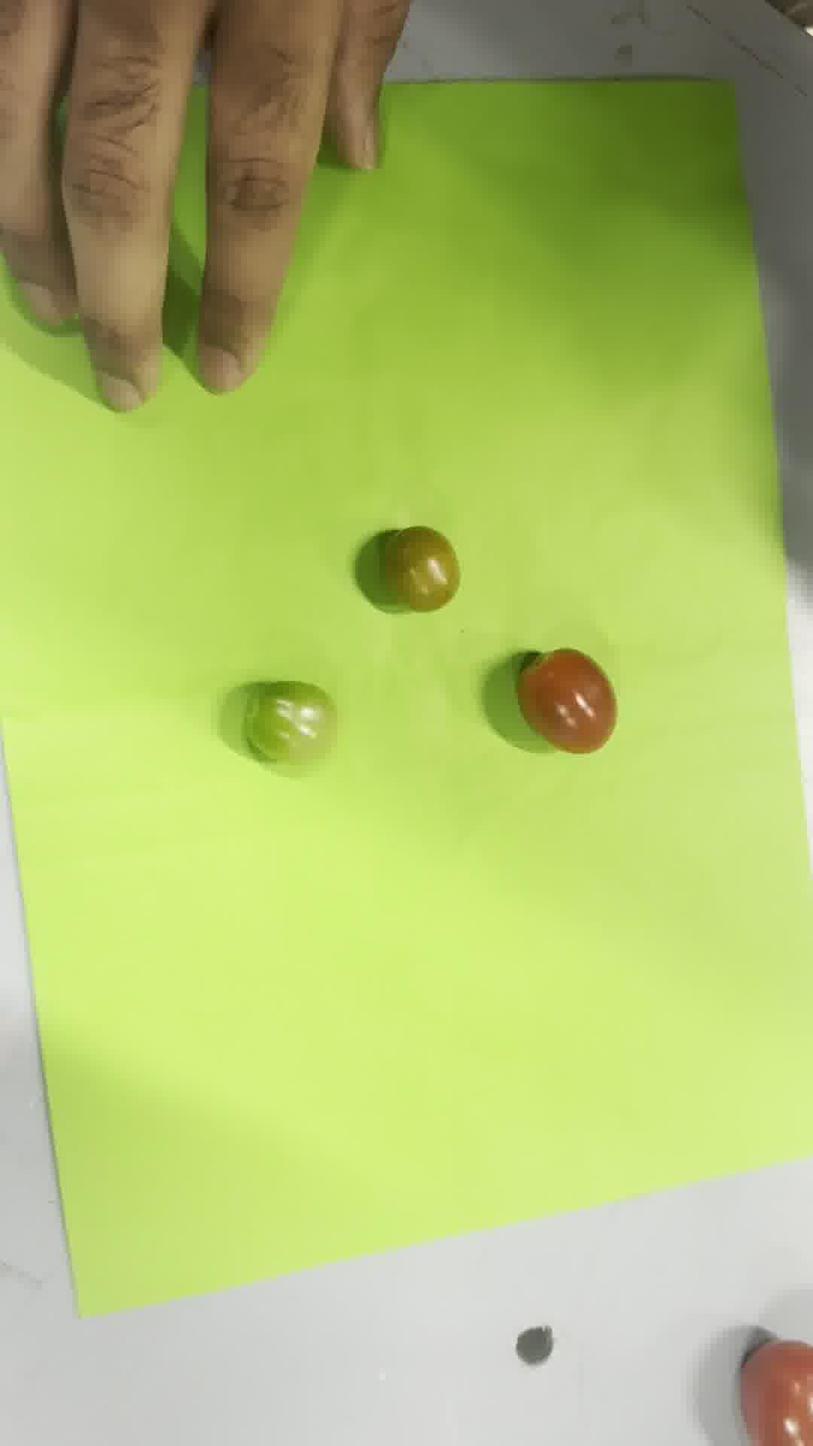green_cherry_tomato: (245, 682, 336, 763)
red_cherry_tomato: (517, 648, 616, 752)
yellow_cherry_tomato: (382, 526, 459, 611)
